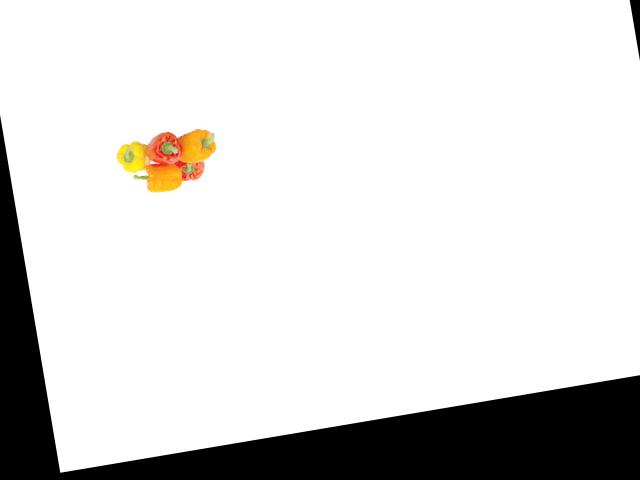bell_pepper: (172, 121, 227, 168)
